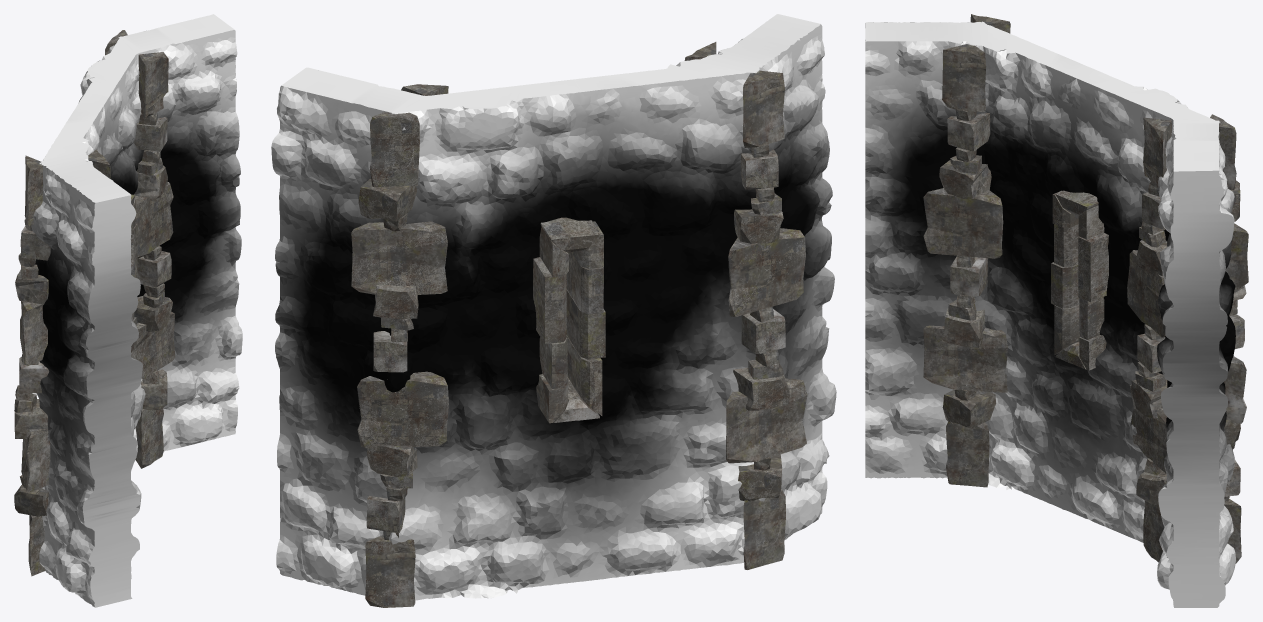
Rendered from SM_CastleTower_Window_A_16.fbx.
3 views of the same model, side by side, from view 1: azimuth 30°, elevation 25°; view 2: azimuth 150°, elevation 25°; view 3: azimuth 270°, elevation 25° (orthographic). The views are drawn at different scales.
Visible parts, largest first — view 1: SM_CastleTower_Window_A_16_LOD0; view 2: SM_CastleTower_Window_A_16_LOD0; view 3: SM_CastleTower_Window_A_16_LOD0.
Part boxes in pixels (x1,y1,x2,y2): SM_CastleTower_Window_A_16_LOD0: (14, 14, 242, 607); SM_CastleTower_Window_A_16_LOD0: (271, 14, 836, 607); SM_CastleTower_Window_A_16_LOD0: (865, 14, 1248, 607).
Bounding box in the file's own units: 324 × 319 × 401.
